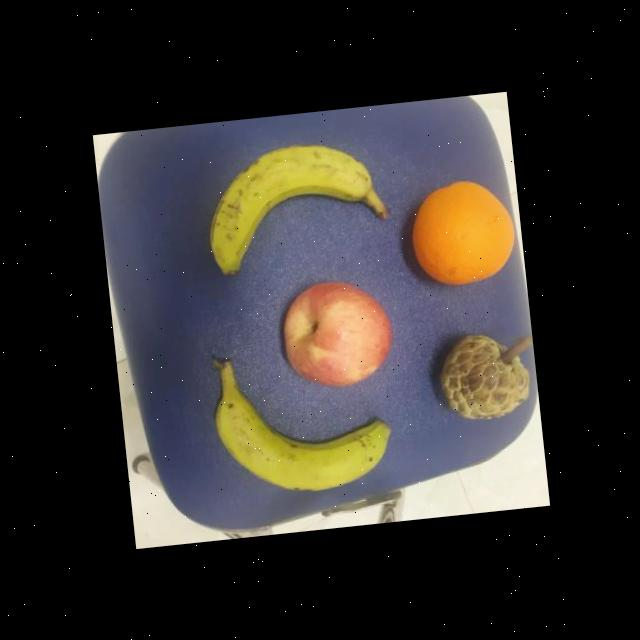Sakya fruit: (432, 327, 536, 428)
apple: (271, 272, 398, 396)
banana: (202, 334, 396, 506), (198, 135, 394, 277)
orange: (404, 174, 520, 289)
